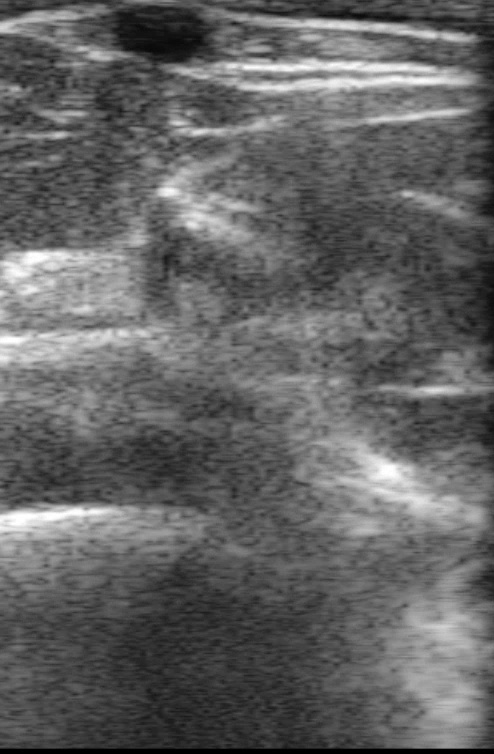veins_detect: (113, 4, 219, 72)
veins_seg: (114, 6, 207, 63)
